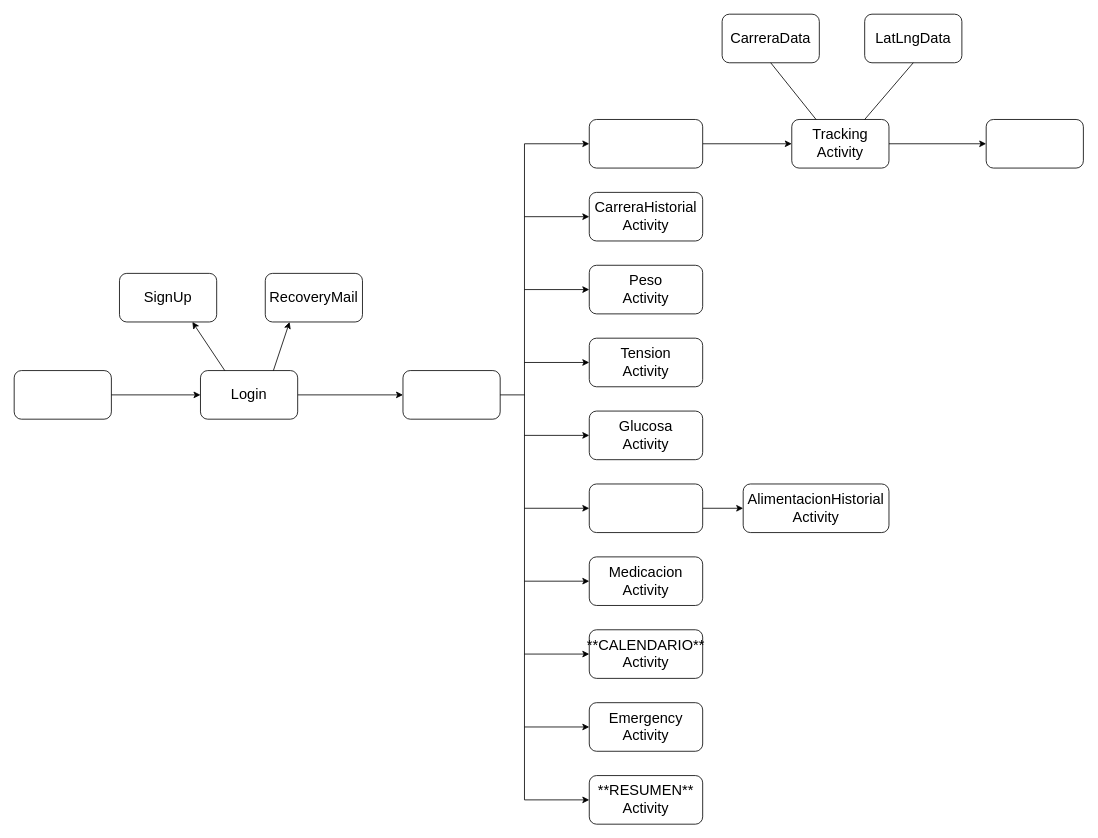
Some shapes in this 1098 by 838 pixel diagram are drawn without their labels. The centre of each missing label's shape, as x and y in pixels:
ActividadMenu Activity: (x=645, y=143)
Alimentacion Activity: (x=645, y=508)
DetallesCarrera Activity: (x=1034, y=143)
Main Activity: (x=451, y=394)
Splash: (x=62, y=394)
